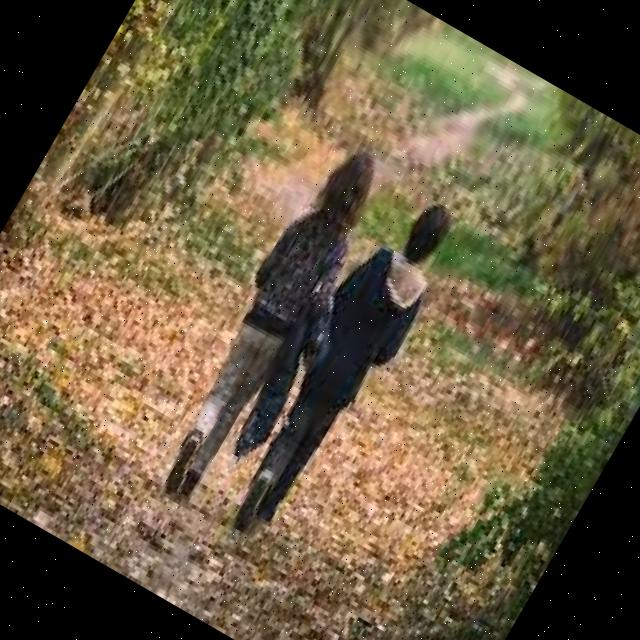Person: (141, 135, 406, 516), (210, 182, 472, 556)
